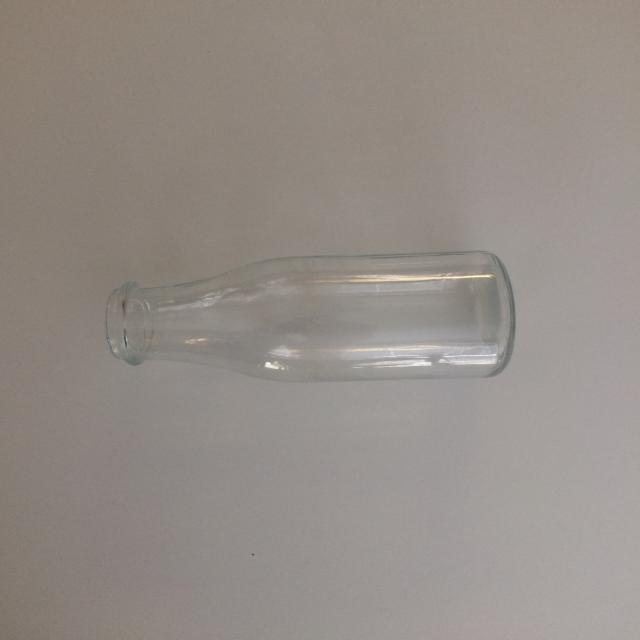glass: (104, 250, 516, 383)
